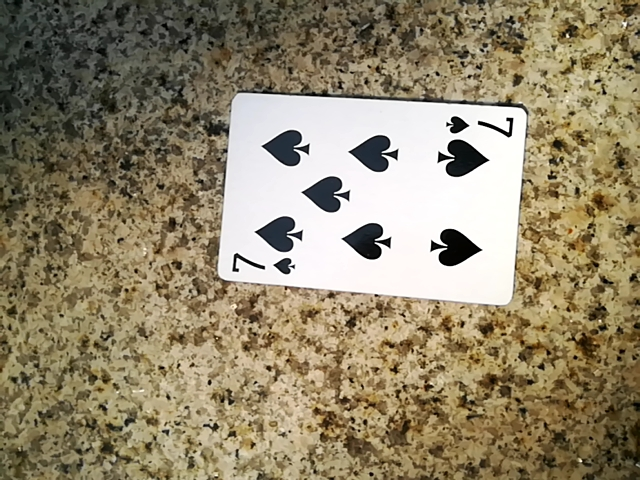ht 7: (211, 100, 529, 309)
